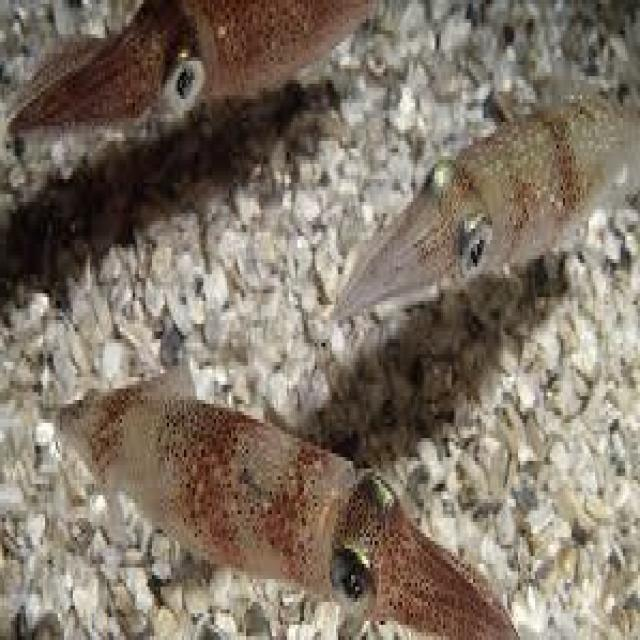squid: (62, 373, 520, 636), (338, 95, 640, 312), (9, 0, 372, 126)
